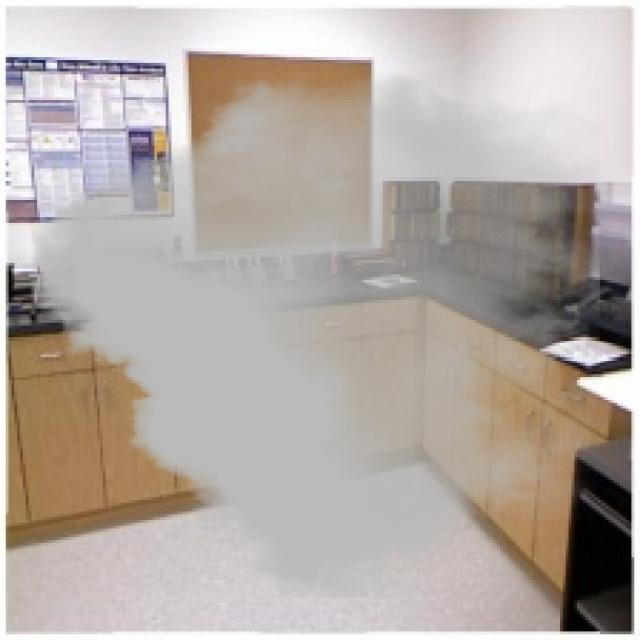Smoke: (31, 72, 600, 598)
